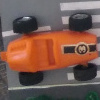naranja_este: (1, 13, 97, 86)
